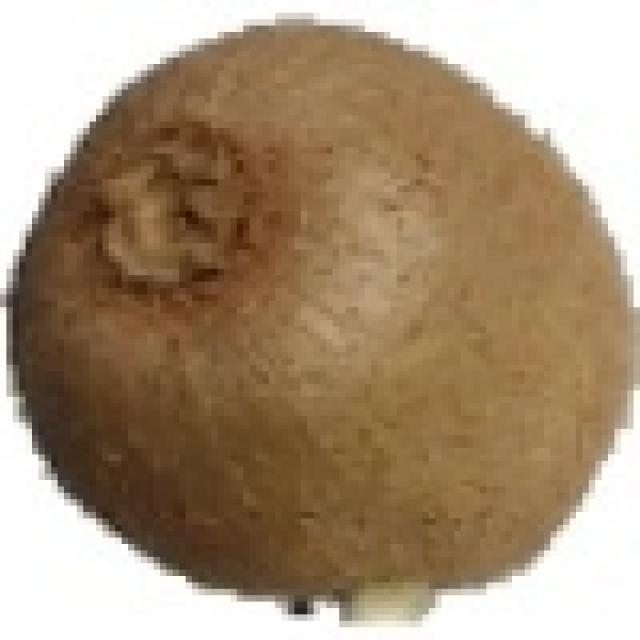kiwi: (17, 17, 625, 612)
